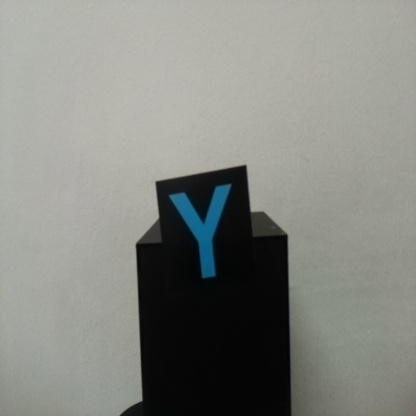id_14: (157, 178, 252, 298)
